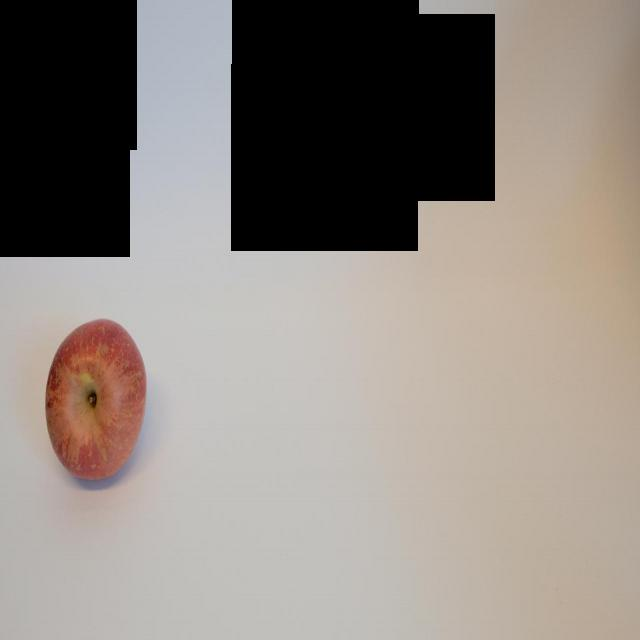apple: (41, 313, 149, 493)
